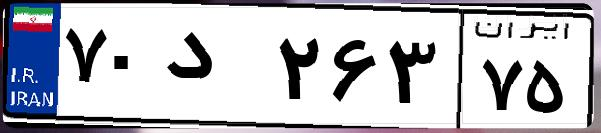0: (110, 28, 158, 98)
2: (270, 28, 330, 110)
3: (385, 28, 445, 110)
5: (525, 38, 570, 115)
6: (330, 28, 385, 110)
7: (57, 26, 110, 100), (475, 38, 525, 113)
د: (158, 20, 270, 120)
